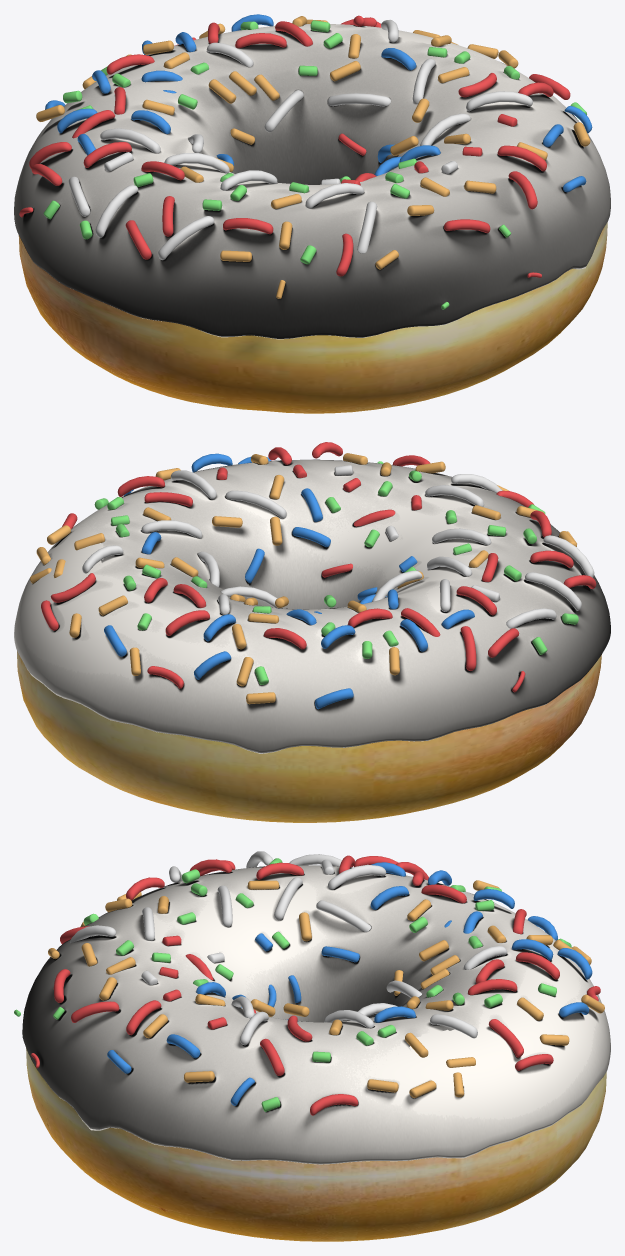
The model's file is white rainbow vermicheli.glb.
3 views of the same model, one above another, from view 1: azimuth 30°, elevation 25°; view 2: azimuth 150°, elevation 25°; view 3: azimuth 270°, elevation 25° (orthographic). The views are drawn at different scales.
Visible parts, largest first — view 1: white, coffee.001, Torus, blue.002; view 2: white, coffee.001, Torus, blue.002; view 3: white, coffee.001, Torus, blue.002.
Boxes of the visible parts, x1,y1,x2,y2 form: white: (14,24,610,339); coffee.001: (14,24,610,338); Torus: (18,222,607,413); blue.002: (19,14,592,309); white: (14,460,609,753); coffee.001: (14,459,610,752); Torus: (17,651,601,822); blue.002: (30,442,596,709); white: (23,865,610,1164); coffee.001: (22,865,610,1163); Torus: (26,1048,606,1241); blue.002: (14,851,604,1115).
Bounding box in the file's own units: 0.1989 × 0.0773 × 0.2.
8 materials, 2 textured.
